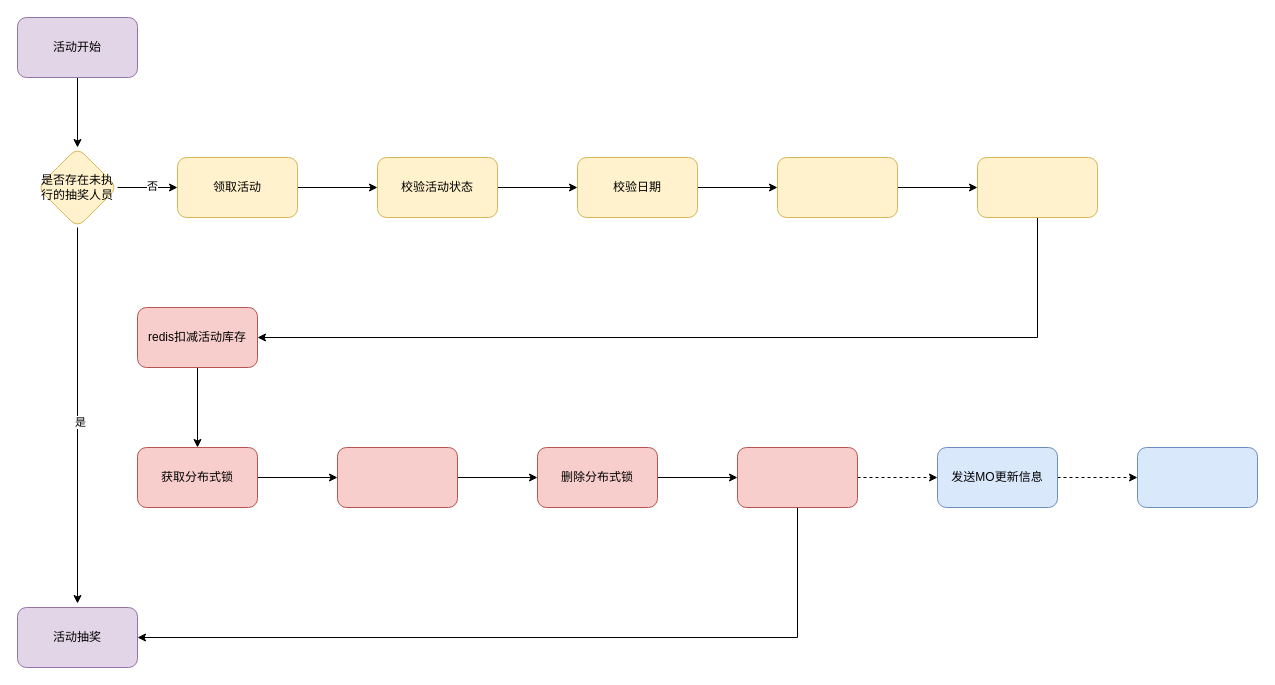
Image size: 1275x685. Some labels were removed from this diagram. Each missing label, with the centre of its shape:
"MQ异步更新活动库存信息" belongs at pixel 1197 477.
"插入用户领取活动信息" belongs at pixel 397 477.
"校验个人可抽奖次数" belongs at pixel 1037 187.
"校验库存" belongs at pixel 837 187.
"活动领取完成" belongs at pixel 797 477.
